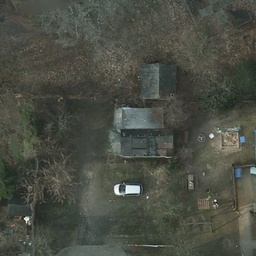car: (112, 183, 146, 198)
